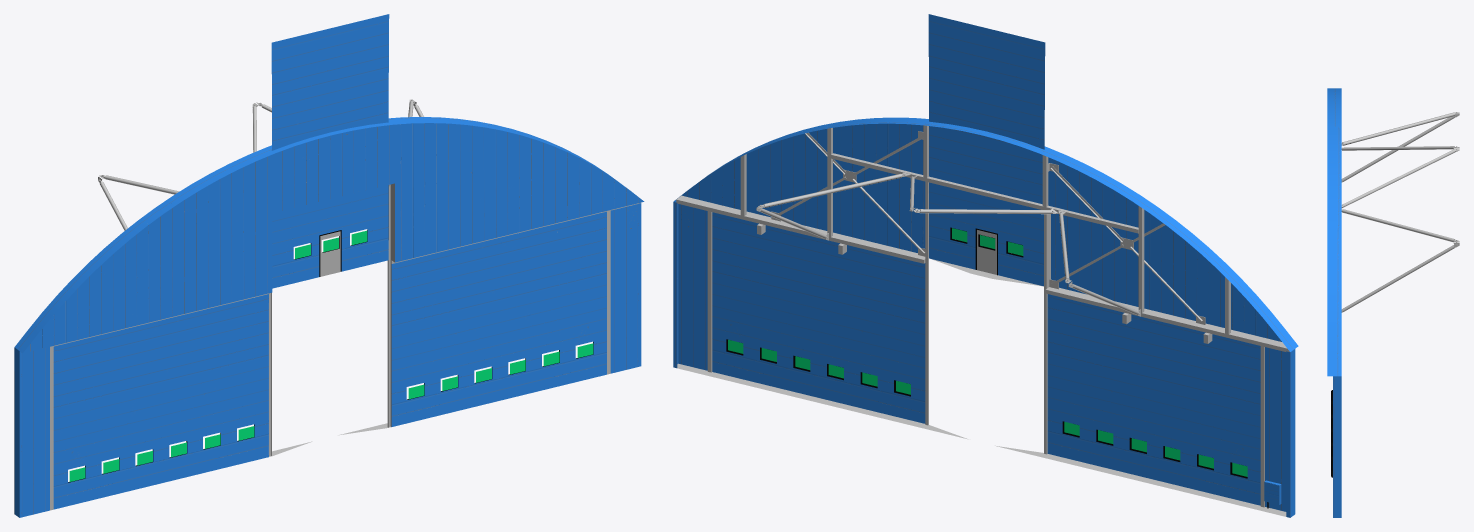
Rendered from mesh_wall.FBX.
The picture shows the model from 3 angles, left to right: view 1: azimuth 30°, elevation 25°; view 2: azimuth 150°, elevation 25°; view 3: azimuth 270°, elevation 25°; orthographic projection. The views are drawn at different scales.
Parts seen in each view (by area): view 1: mesh_wall; view 2: mesh_wall; view 3: mesh_wall.
Part boxes in pixels (x1,y1,x2,y2): mesh_wall: [14, 14, 644, 517]; mesh_wall: [673, 14, 1298, 517]; mesh_wall: [1327, 88, 1459, 517].
Bounding box in the file's own units: 1101 × 5067 × 3222.
